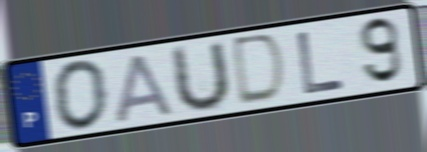9: (356, 16, 405, 88)
A: (113, 51, 177, 125)
D: (232, 31, 289, 108)
L: (294, 29, 347, 97)
O: (50, 57, 111, 133)
U: (171, 38, 234, 117)
